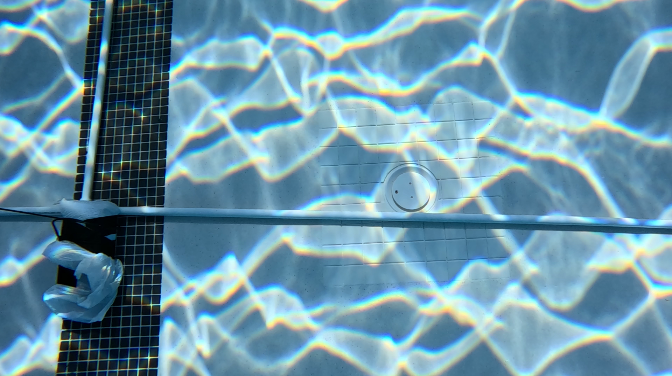sandbag: (50, 199, 115, 317)
